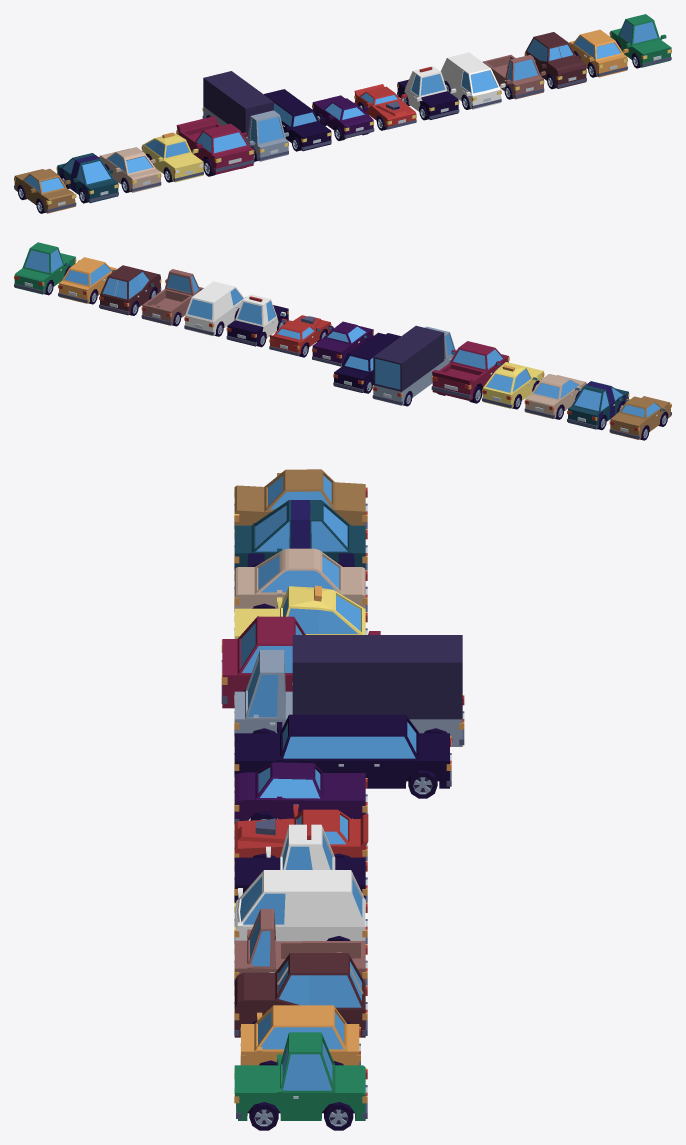
The model's file is Cars.fbx.
3 renders of one model, top to bottom at view 1: azimuth 30°, elevation 25°; view 2: azimuth 150°, elevation 25°; view 3: azimuth 270°, elevation 25°, orthographic. The views are drawn at different scales.
Parts seen in each view (by area): view 1: Cube.009, Cube.010, Cube.004, Cube.002, Cube.005, Cube.008, Cube, Cube.013, Cube.011, Cube.014, Cube.003, Cube.001 (+3 smaller); view 2: Cube.009, Cube.010, Cube.004, Cube.002, Cube.005, Cube, Cube.013, Cube.003, Cube.011, Cube.014, Cube.008, Cube.012 (+3 smaller); view 3: Cube.009, Cube.008, Cube, Cube.004, Cube.002, Cube.007, Cube.013, Cube.012, Cube.001, Cube.014, Cube.006, Cube.011 (+3 smaller).
Boxes of the visible parts, <box> form: Cube.009: <box>202,71,288,161</box>; Cube.010: <box>176,116,254,176</box>; Cube.004: <box>440,52,505,109</box>; Cube.002: <box>524,32,586,89</box>; Cube.005: <box>397,66,459,120</box>; Cube.008: <box>264,89,331,151</box>; Cube: <box>609,14,671,68</box>; Cube.013: <box>56,153,118,203</box>; Cube.011: <box>141,132,203,182</box>; Cube.014: <box>14,168,76,213</box>; Cube.003: <box>483,54,545,99</box>; Cube.001: <box>569,29,628,77</box>; Cube.009: <box>372,325,456,406</box>; Cube.010: <box>431,341,509,403</box>; Cube.004: <box>184,281,246,336</box>; Cube.002: <box>99,265,161,315</box>; Cube.005: <box>226,294,288,347</box>; Cube: <box>14,242,76,295</box>; Cube.013: <box>567,381,629,430</box>; Cube.003: <box>141,269,203,326</box>; Cube.011: <box>482,362,544,409</box>; Cube.014: <box>609,396,671,440</box>; Cube.008: <box>333,332,400,393</box>; Cube.012: <box>524,374,586,419</box>; Cube.009: <box>234,635,464,746</box>; Cube.008: <box>234,714,451,798</box>; Cube: <box>234,1032,367,1130</box>; Cube.004: <box>234,870,367,943</box>; Cube.002: <box>234,953,367,1037</box>; Cube.007: <box>234,762,367,824</box>; Cube.013: <box>234,500,367,570</box>; Cube.012: <box>234,548,367,611</box>; Cube.001: <box>240,1005,360,1065</box>; Cube.014: <box>234,469,367,528</box>; Cube.006: <box>234,805,368,860</box>; Cube.011: <box>234,585,367,638</box>.
Bounding box in the file's own units: 4474 × 329 × 741.
1 material, 1 textured.
